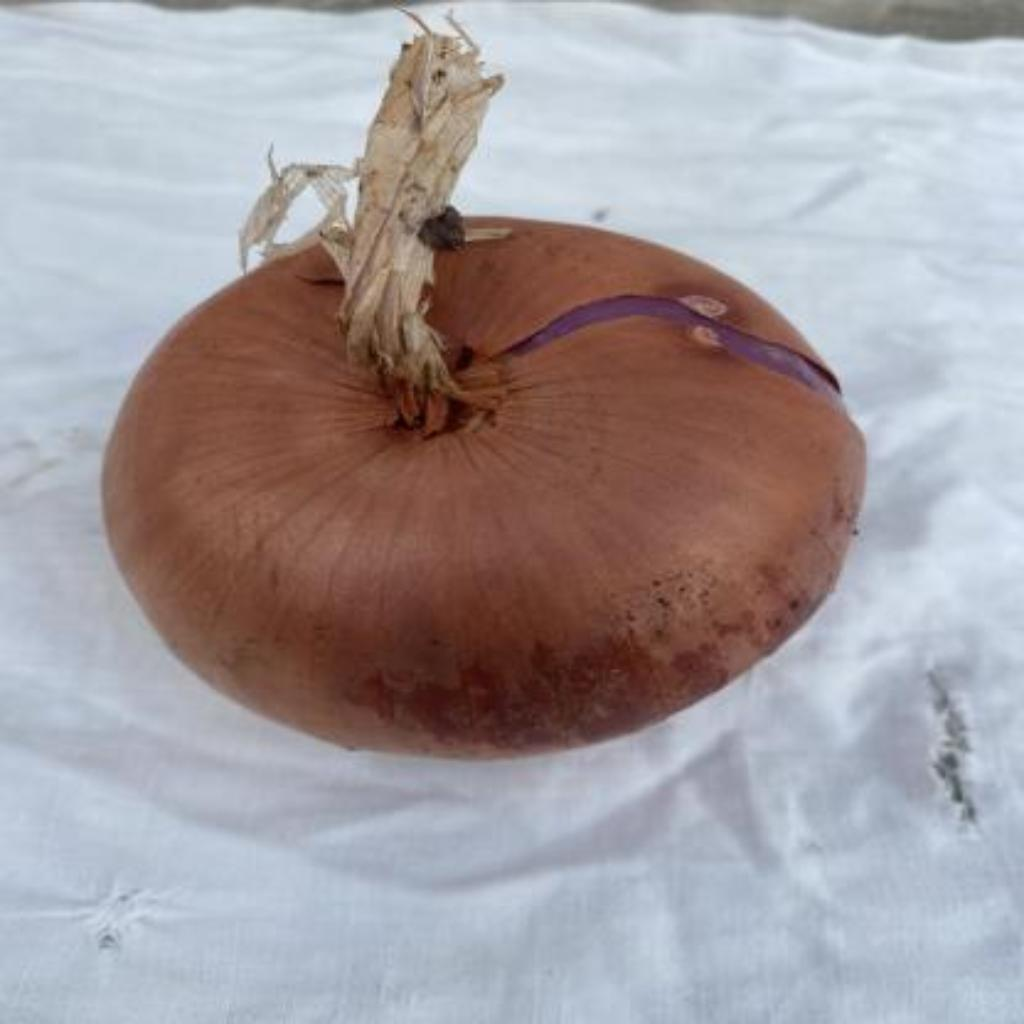Onion: (103, 22, 866, 757)
